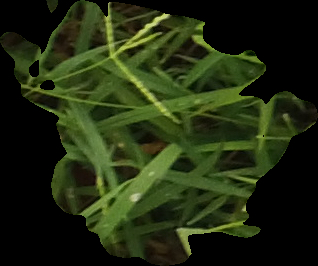grass: (1, 1, 316, 264)
